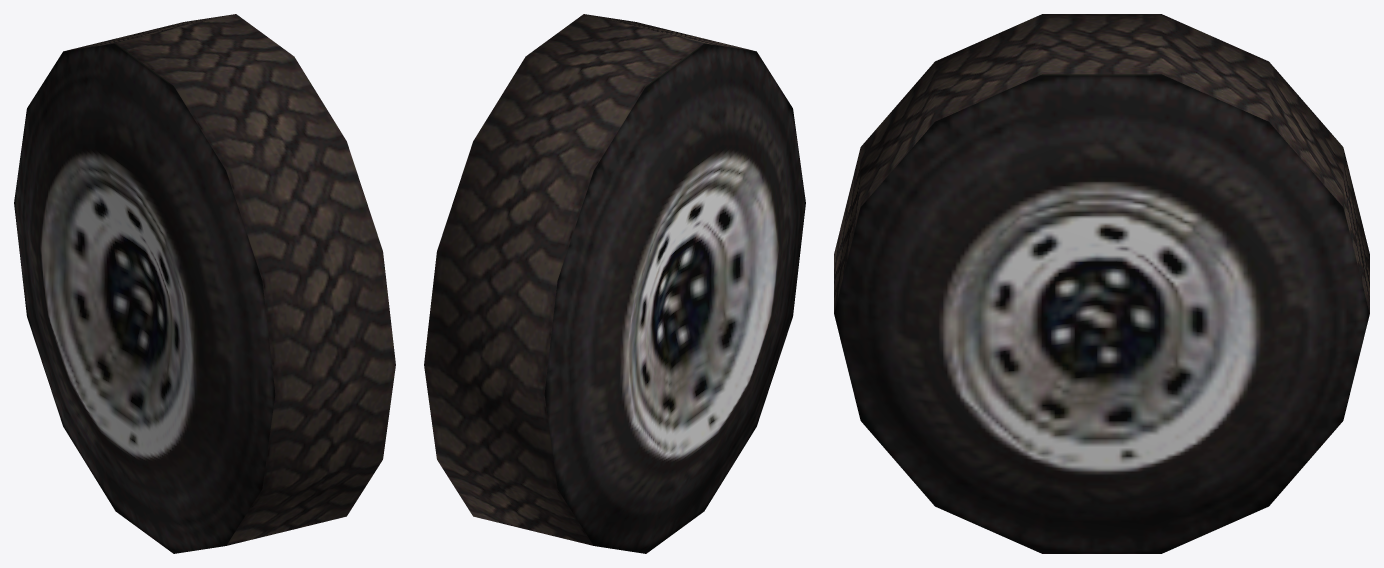
File: ranger_wheel.obj
3 renders of one model, left to right at view 1: azimuth 30°, elevation 25°; view 2: azimuth 150°, elevation 25°; view 3: azimuth 270°, elevation 25°, orthographic. The views are drawn at different scales.
Visible parts, largest first — view 1: DrawCall_7; view 2: DrawCall_7; view 3: DrawCall_7.
Part boxes in pixels (x1,y1,x2,y2): DrawCall_7: [14, 14, 395, 553]; DrawCall_7: [424, 14, 805, 553]; DrawCall_7: [834, 14, 1369, 553].
Bounding box in the file's own units: 0.7778 × 2 × 2.02.
2 materials, 2 textured.
